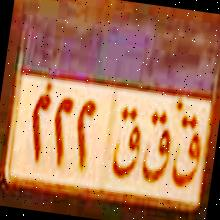2: (23, 93, 54, 168), (46, 96, 78, 166), (70, 96, 98, 170)
qaaf: (168, 113, 208, 191), (108, 104, 148, 182), (140, 108, 176, 185)
